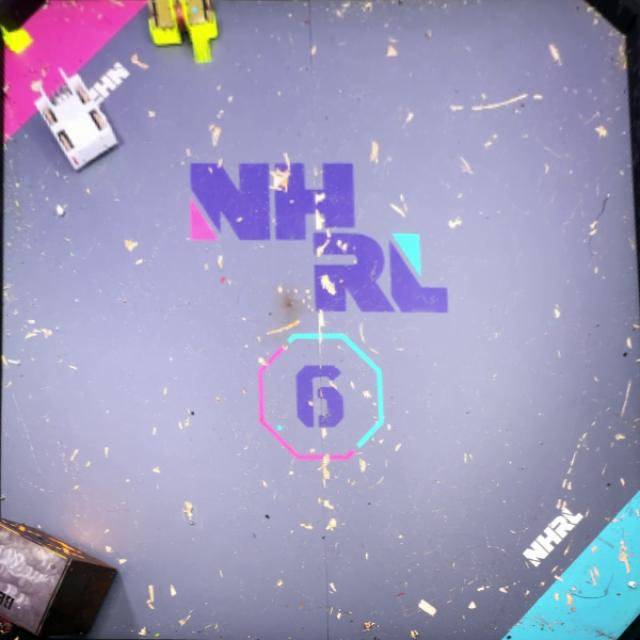housebot: (0, 513, 124, 640)
robot: (26, 67, 124, 174), (144, 0, 225, 68)
